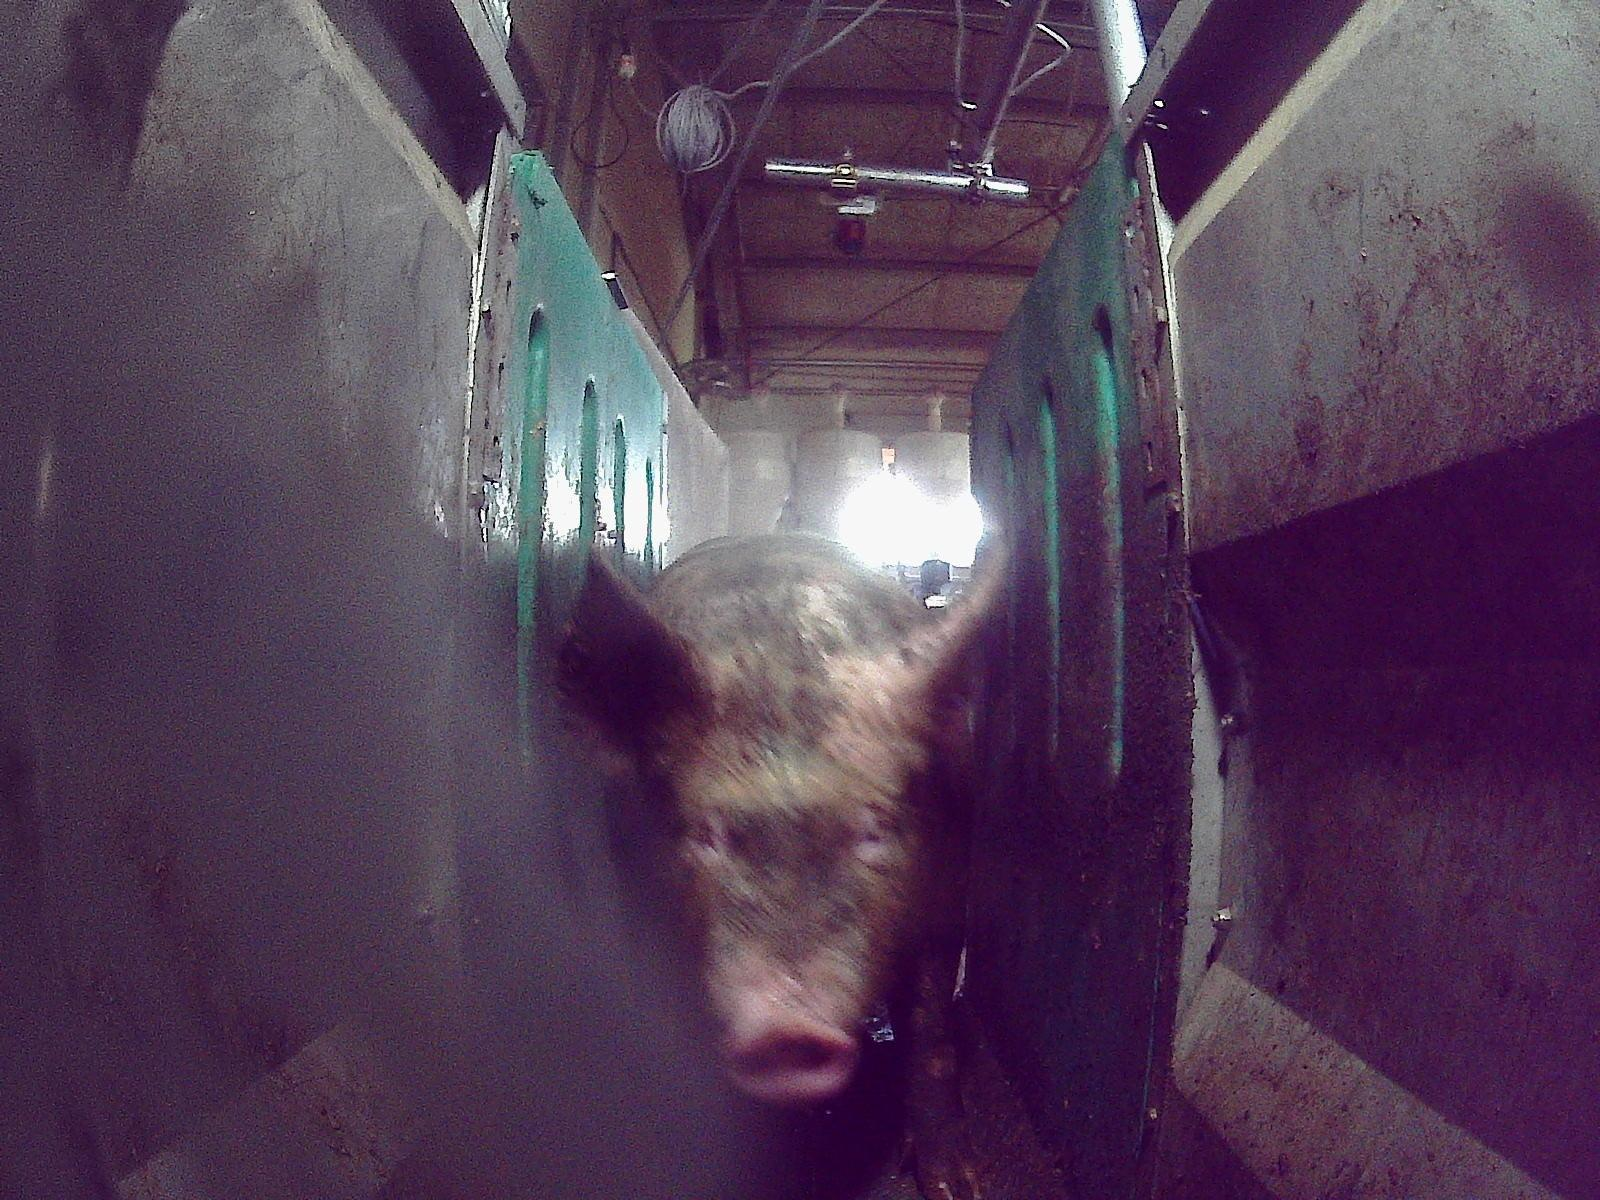Face: (627, 597, 936, 1107)
